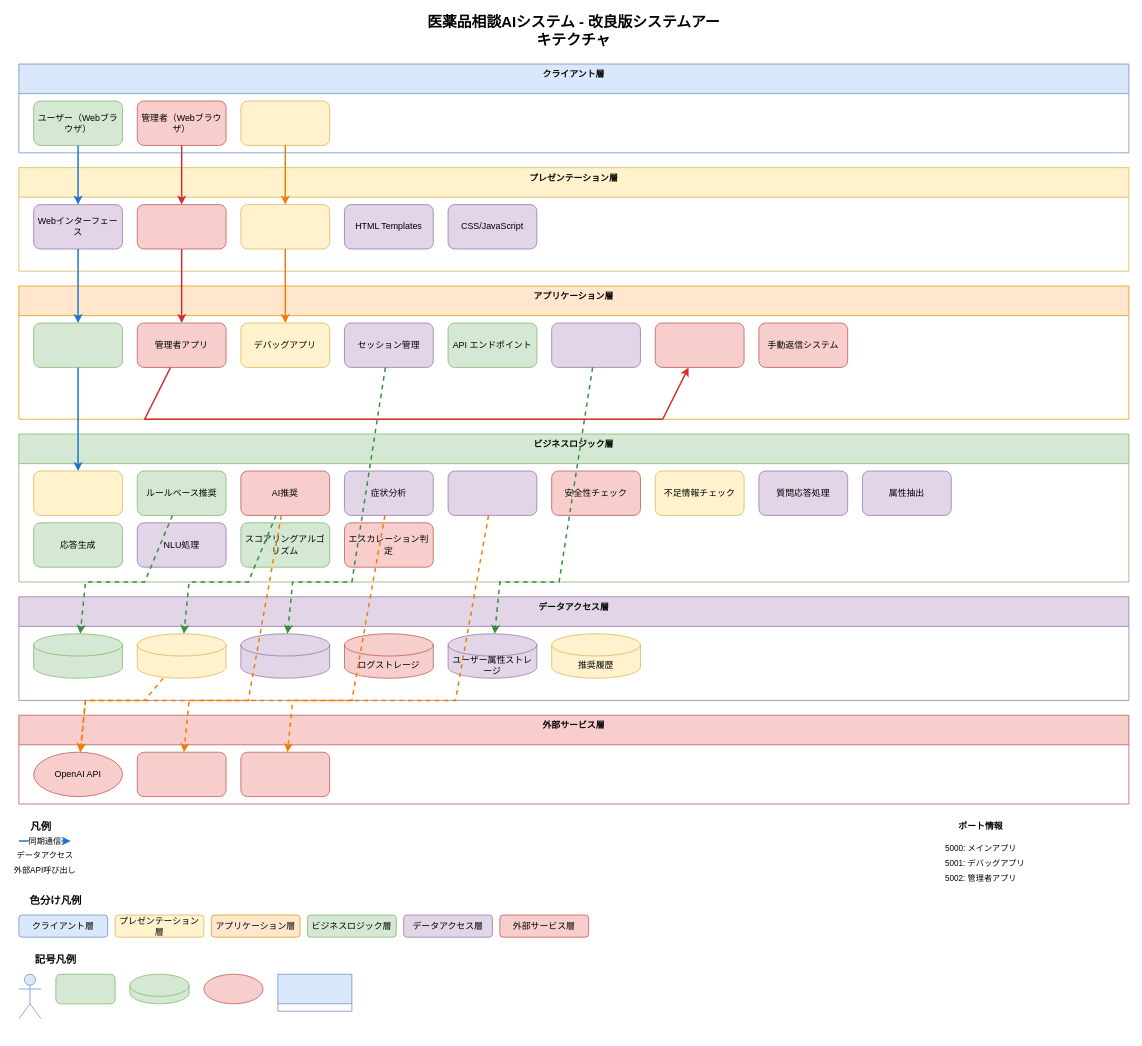
Some shapes in this 1142 by 1046 pixel diagram are drawn without their labels. The shapes that lost their labels are listed below. From the top down, each one's centre as x and y in pixels, then its label:
the point at 285,122: デバッグ（Webブラウザ）
the point at 181,226: 管理者インターフェース
the point at 285,226: デバッグインターフェース
the point at 77,344: Flask Webアプリ
the point at 595,344: ユーザー属性管理
the point at 699,344: AI制御システム
the point at 77,492: ハイブリッド推奨システム
the point at 492,492: 医薬品種類判定
the point at 77,655: 医薬品DB
the point at 181,655: 効能要約データ
the point at 285,655: セッションストレージ
the point at 181,774: GPT-4o
the point at 285,774: GPT-4o-mini
the point at 29,996: アクター
the point at 85,988: プロセス
the point at 159,988: データストア
the point at 233,988: 外部サービス
the point at 314,992: 階層
